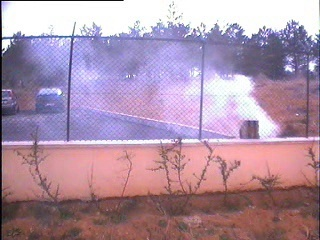smoke: (130, 26, 281, 138)
